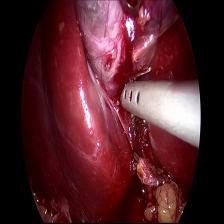Irrigator: (118, 77, 157, 125)
